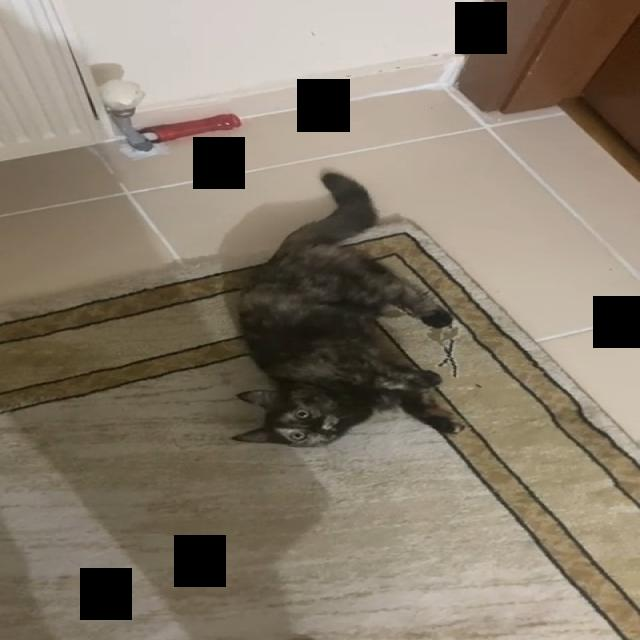authorized: (230, 170, 466, 447)
